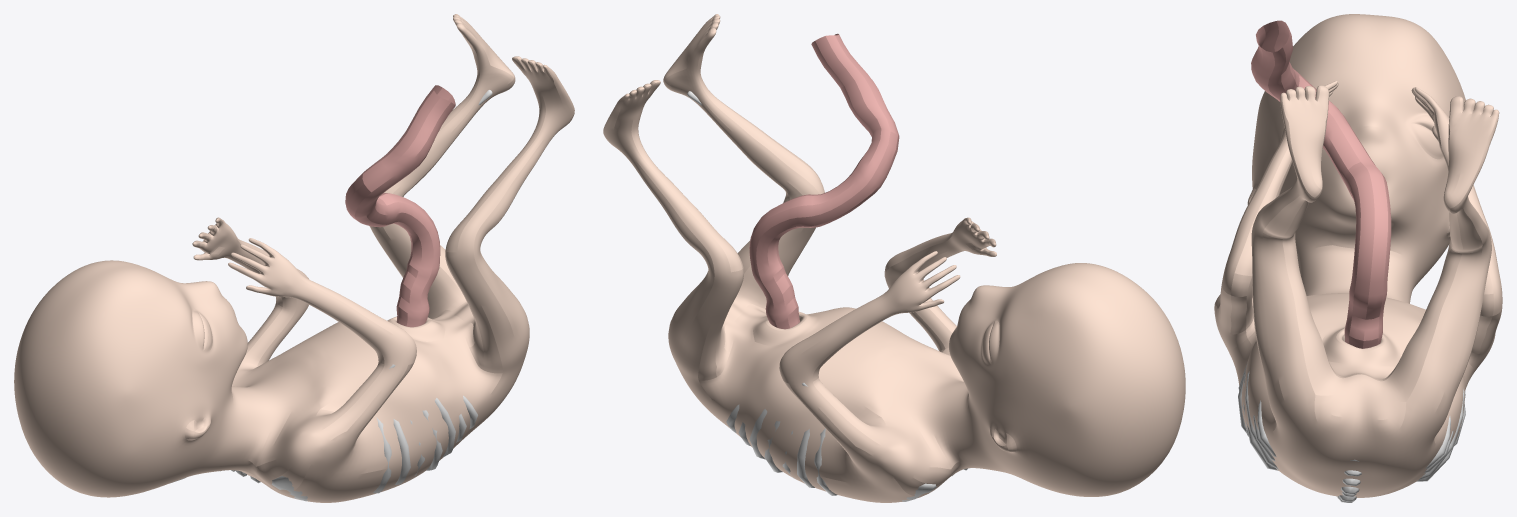
File: week36.glb
3 views of the same model, side by side, from view 1: azimuth 30°, elevation 25°; view 2: azimuth 150°, elevation 25°; view 3: azimuth 270°, elevation 25° (orthographic). The views are drawn at different scales.
Parts seen in each view (by area): view 1: FetusBody_Skin_Master, UmbilicalCord_Master, ribcage; view 2: FetusBody_Skin_Master, UmbilicalCord_Master, ribcage; view 3: FetusBody_Skin_Master, UmbilicalCord_Master, ribcage, backbone.
Boxes of the visible parts, bbox=[...] form: FetusBody_Skin_Master: bbox=[14, 14, 574, 502]; UmbilicalCord_Master: bbox=[345, 85, 455, 327]; ribcage: bbox=[373, 395, 477, 493]; FetusBody_Skin_Master: bbox=[603, 14, 1185, 502]; UmbilicalCord_Master: bbox=[749, 33, 899, 329]; ribcage: bbox=[726, 404, 837, 495]; FetusBody_Skin_Master: bbox=[1214, 14, 1502, 497]; UmbilicalCord_Master: bbox=[1251, 20, 1391, 348]; ribcage: bbox=[1238, 363, 1465, 481]; backbone: bbox=[1336, 459, 1361, 502].
Bounding box in the file's own units: 0.9545 × 0.7114 × 0.3779.
